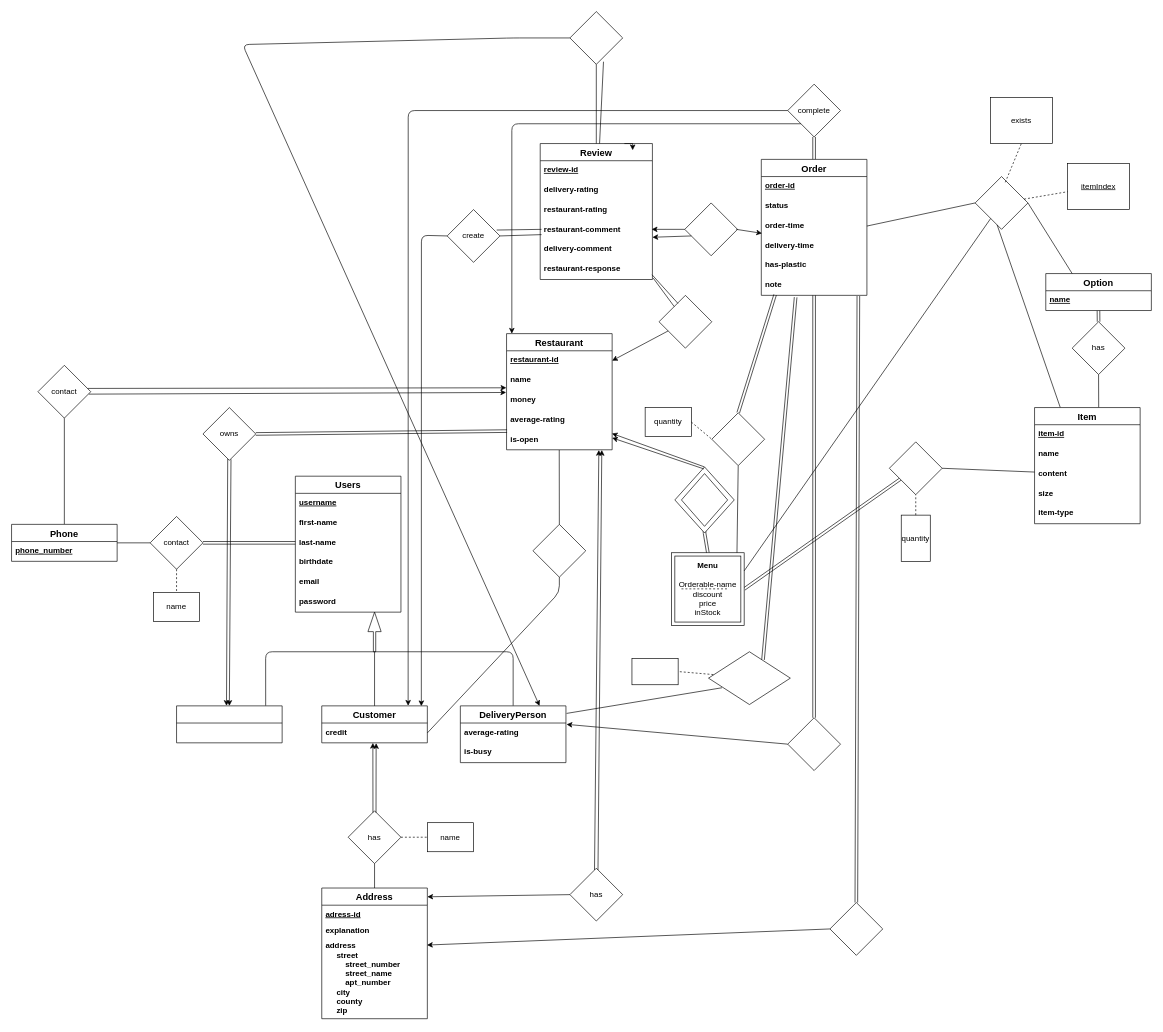
This 1163x1032 diagram has some shape labels left out. The centre of each missing label's shape, as x and y in pixels:
"acceptance" goes at pixel 654 671.
"consist-of" goes at pixel 738 439.
"contain" goes at pixel 915 468.
"delivered-by" goes at pixel 814 744.
"delivered-to" goes at pixel 856 928.
"favorite" goes at pixel 559 550.
"have" goes at pixel 685 321.
"offers" goes at pixel 704 499.
"rated" goes at pixel 711 229.
"request-for-delivery" goes at pixel 749 678.
"RestaurantOwner" goes at pixel 229 724.
"see" goes at pixel 596 37.
"specify" goes at pixel 1001 202.
